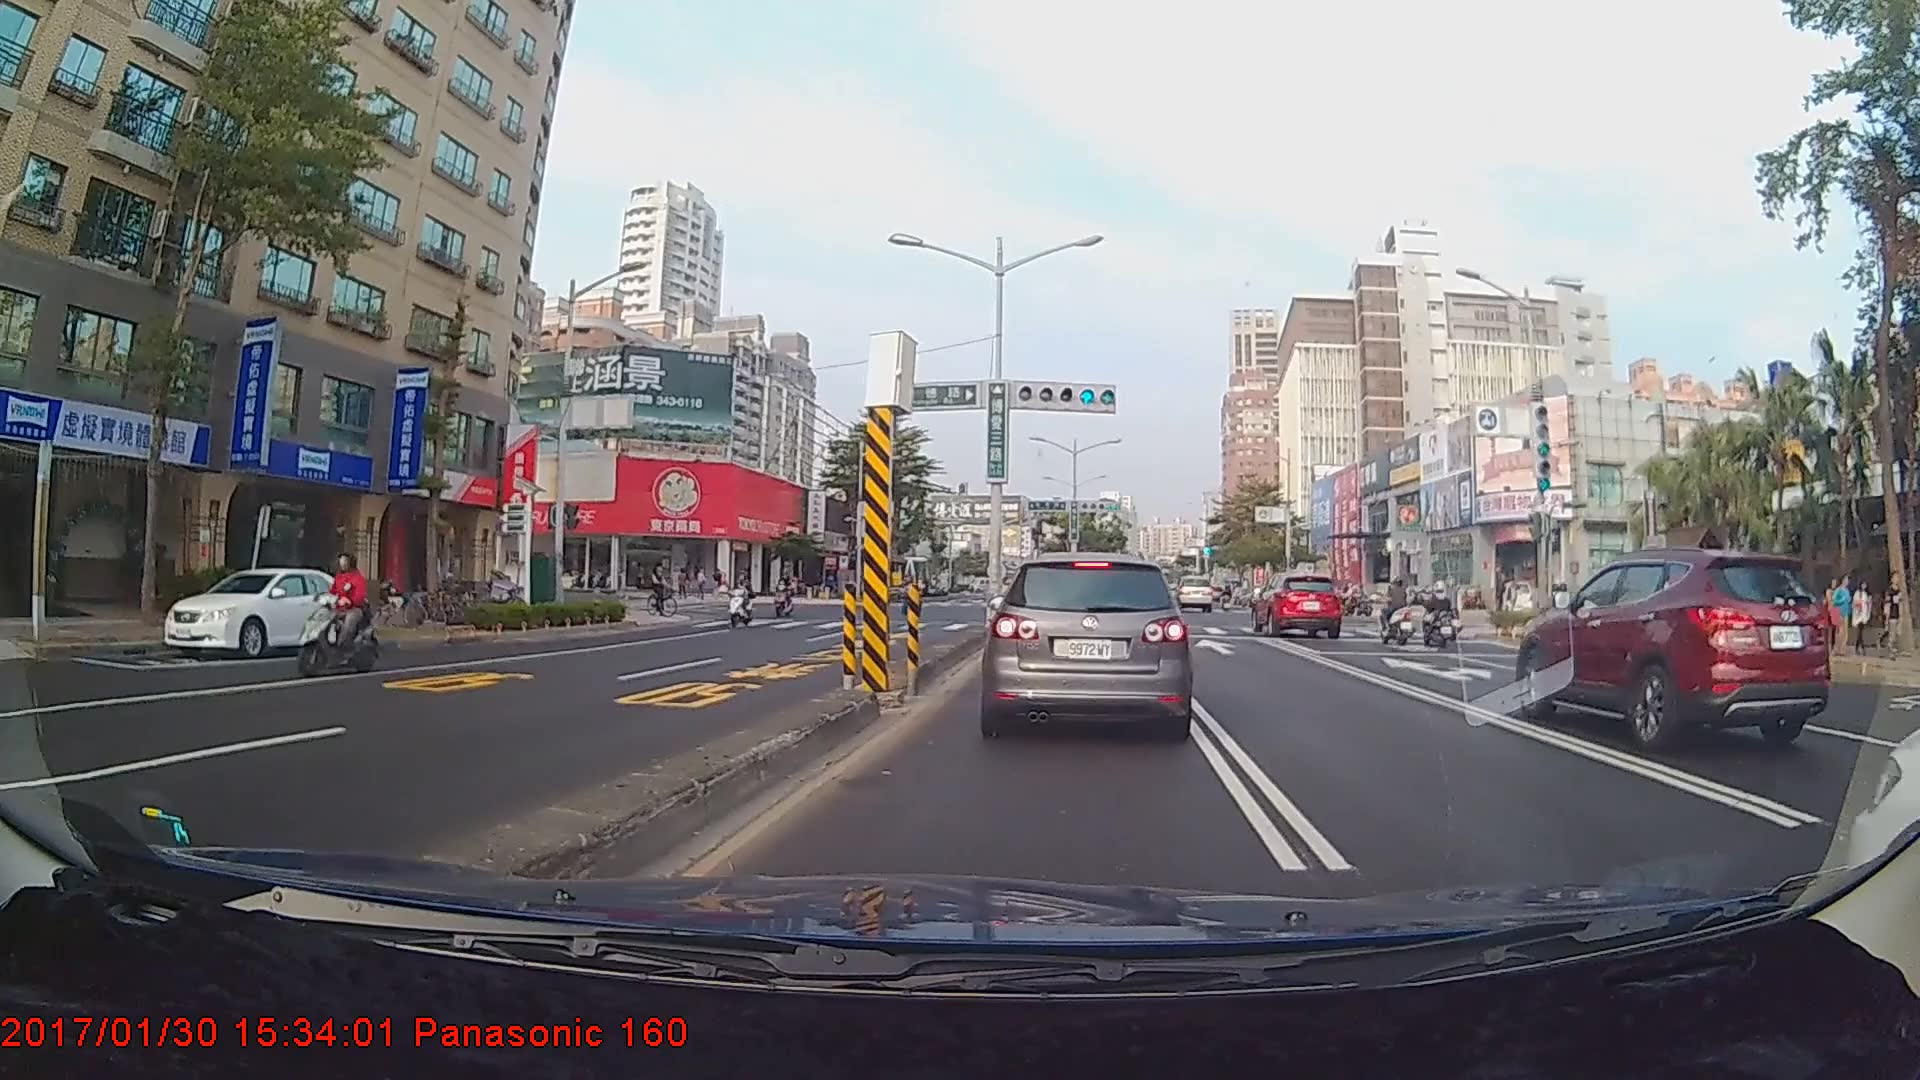pedestrian: (1883, 569, 1910, 657), (1828, 574, 1853, 660), (1820, 576, 1845, 657), (1851, 580, 1874, 650)
rider: (288, 549, 381, 683), (1369, 579, 1423, 651), (1414, 582, 1463, 649), (642, 562, 683, 624), (726, 571, 763, 632), (774, 568, 801, 621)
vehicle: (1515, 550, 1836, 751), (987, 549, 1190, 737), (162, 564, 369, 658), (1254, 572, 1344, 638), (1173, 573, 1213, 612)
